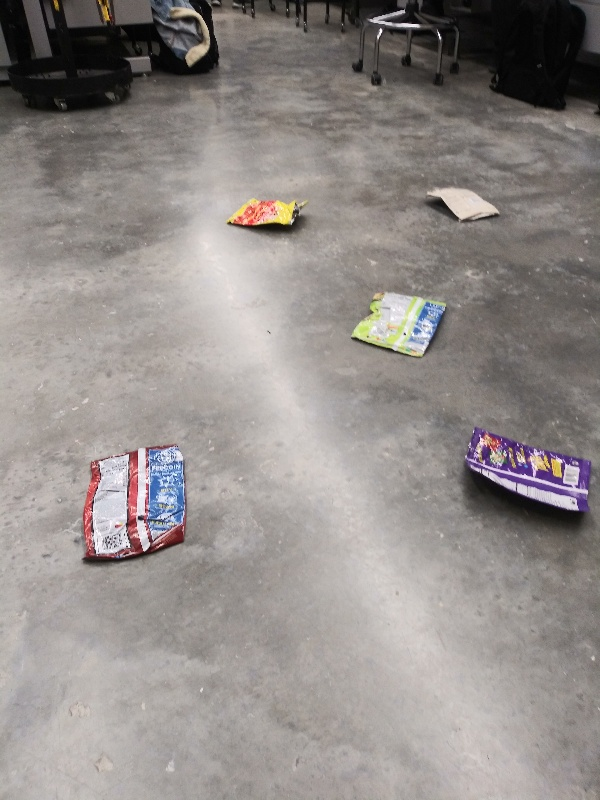bag: (78, 441, 194, 568), (459, 425, 595, 522), (346, 289, 454, 363), (419, 182, 507, 224), (219, 194, 312, 232)
